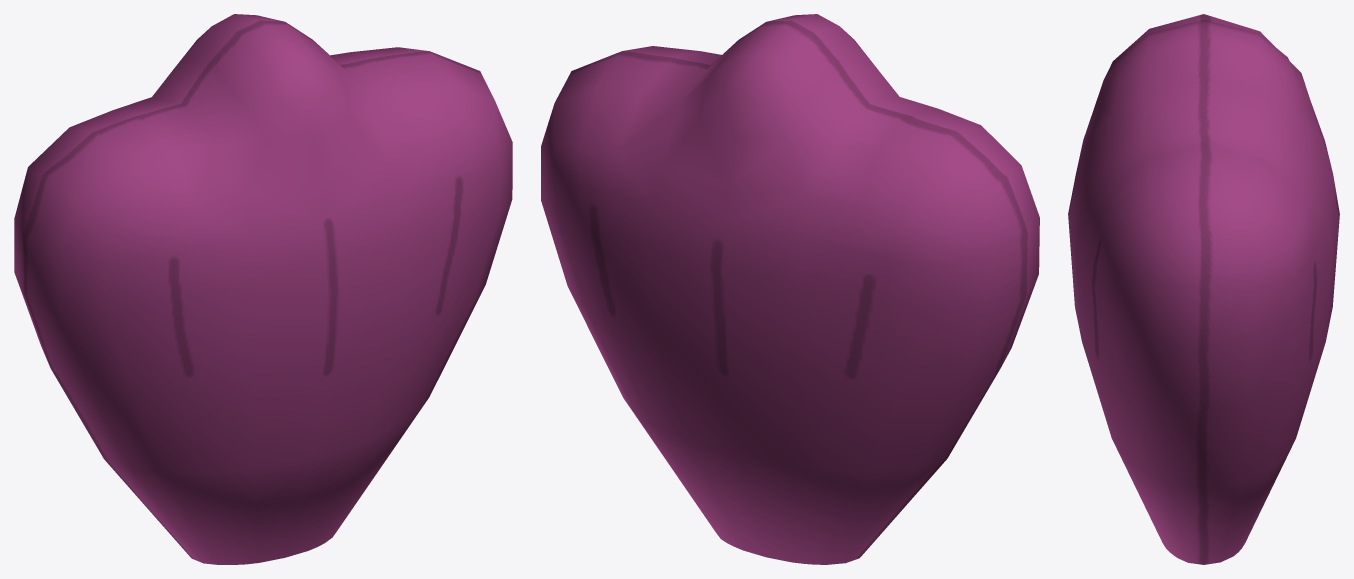
The model's file is shell-by-kurbujul-o3cU2y01ju.glb.
3 views of the same model, side by side, from view 1: azimuth 30°, elevation 25°; view 2: azimuth 150°, elevation 25°; view 3: azimuth 270°, elevation 25° (orthographic). The views are drawn at different scales.
Visible parts, largest first — view 1: Circle; view 2: Circle; view 3: Circle.
Boxes of the visible parts, <box> form: Circle: <box>14,14,512,564</box>; Circle: <box>541,14,1039,564</box>; Circle: <box>1068,14,1339,564</box>.
Bounding box in the file's own units: 0.7494 × 0.7836 × 0.381.
1 material, 1 textured.
